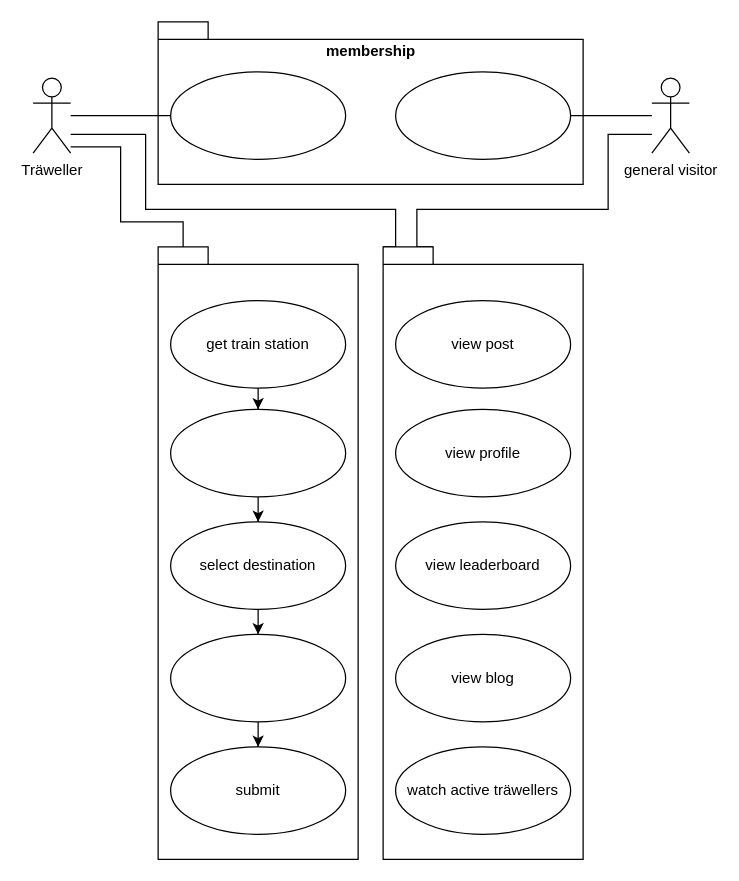
Some shapes in this 739 by 881 pixel diagram are drawn without their labels. Each missing label, with the box of its shape:
basic interaction: (382, 246, 583, 859)
check in: (157, 246, 358, 859)
modify post text / select social media crosspost: (169, 633, 346, 722)
Register: (394, 71, 571, 159)
select departure: (169, 408, 346, 497)
terminate membership: (169, 71, 346, 159)
